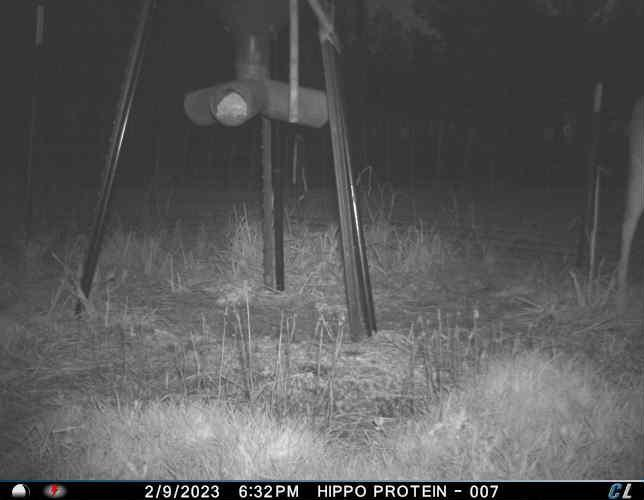Deer: (609, 92, 644, 329)
